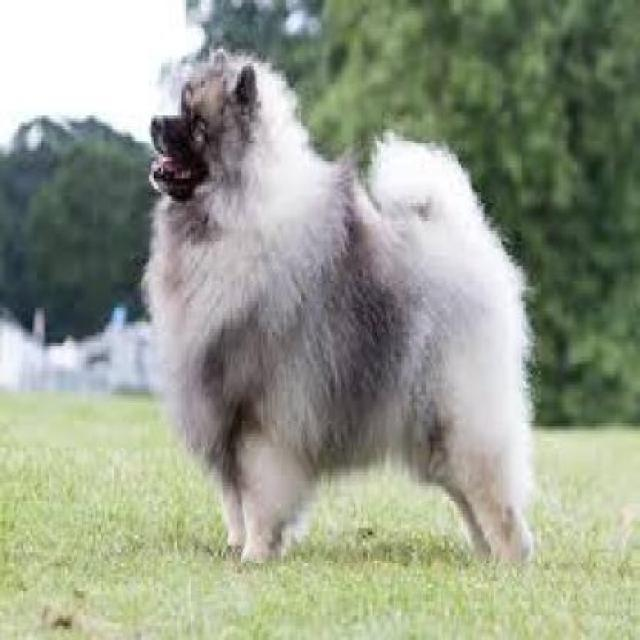animals: (66, 0, 572, 637)
